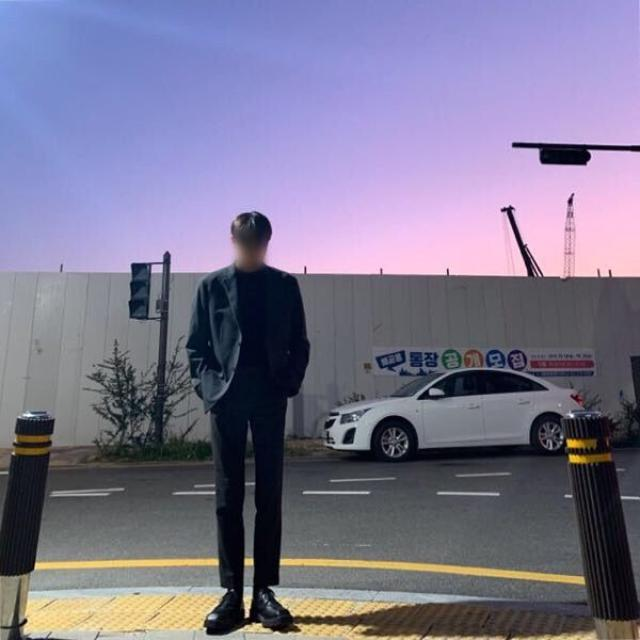blazer: (185, 258, 311, 413)
denimpants: (207, 369, 289, 589)
